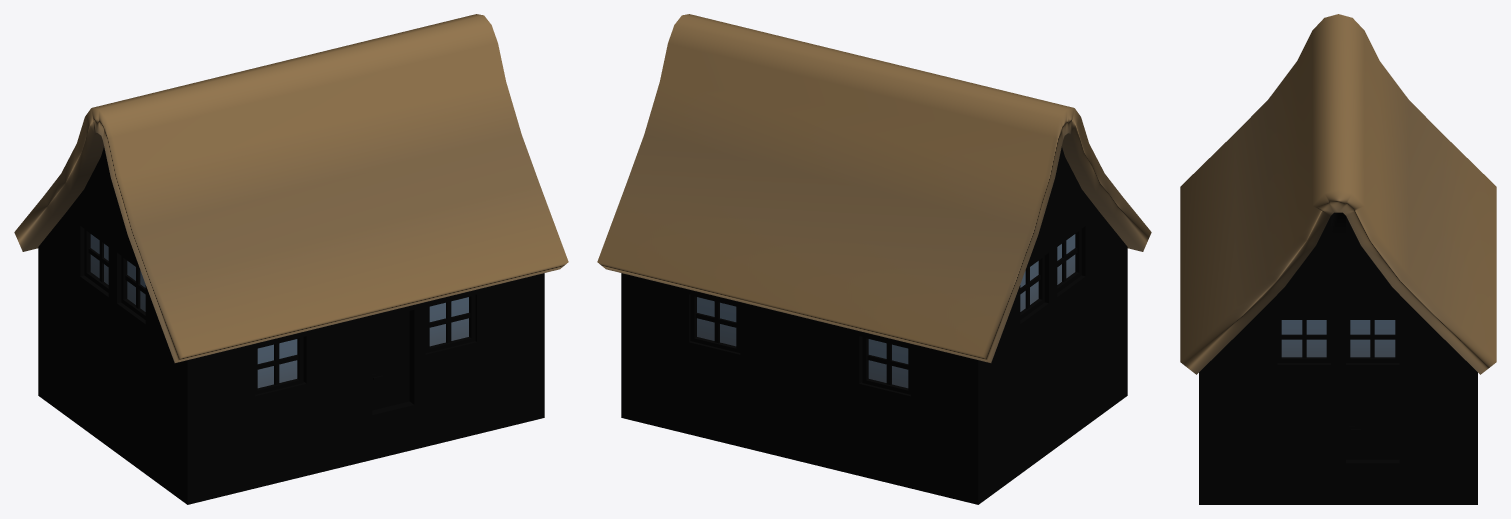
File: buildings-historical-medievalcottage_v1.glb
3 views of the same model, side by side, from view 1: azimuth 30°, elevation 25°; view 2: azimuth 150°, elevation 25°; view 3: azimuth 270°, elevation 25° (orthographic). The views are drawn at different scales.
Visible parts, largest first — view 1: MedievalCottage_v1_base, MedievalCottage_v1_windowRefl; view 2: MedievalCottage_v1_base, MedievalCottage_v1_windowRefl; view 3: MedievalCottage_v1_base, MedievalCottage_v1_windowRefl.
Boxes of the visible parts, left/top/right/bottom form: MedievalCottage_v1_base: left=14, top=14, right=568, bottom=504; MedievalCottage_v1_windowRefl: left=90, top=234, right=468, bottom=388; MedievalCottage_v1_base: left=597, top=14, right=1151, bottom=504; MedievalCottage_v1_windowRefl: left=697, top=234, right=1075, bottom=388; MedievalCottage_v1_base: left=1180, top=14, right=1496, bottom=504; MedievalCottage_v1_windowRefl: left=1281, top=320, right=1395, bottom=357.
Size of the model in its own units: 11.52 by 9.84 by 8.76.
